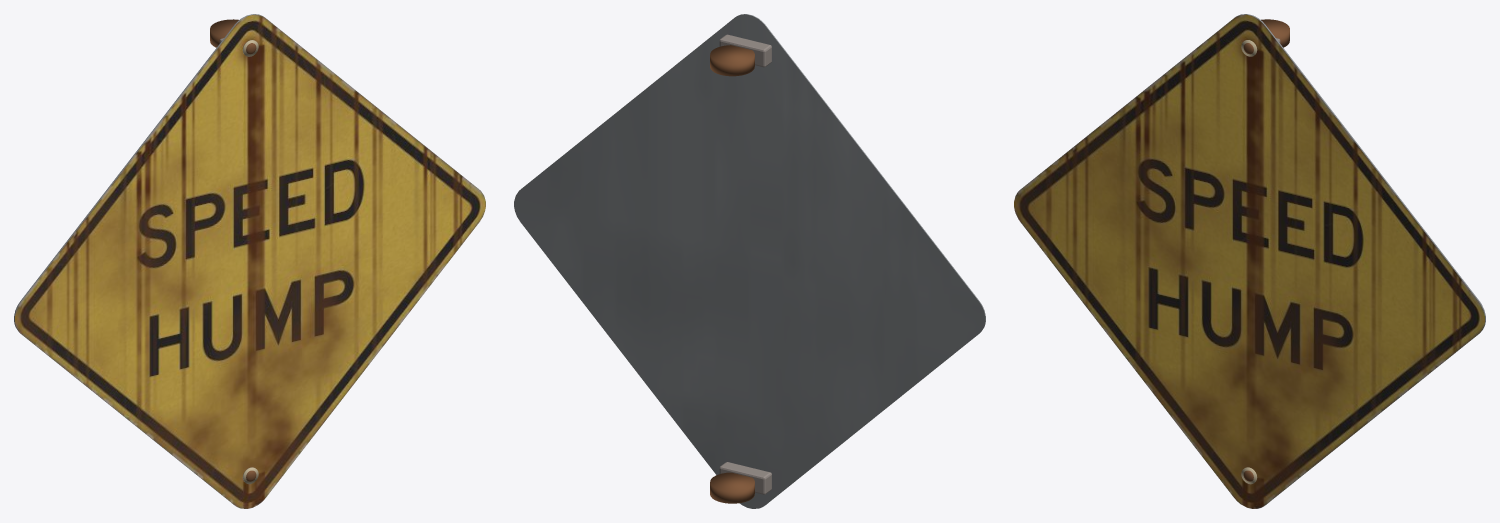
The model's file is warning-v1-rusty.glb.
3 views of the same model, side by side, from view 1: azimuth 30°, elevation 25°; view 2: azimuth 150°, elevation 25°; view 3: azimuth 330°, elevation 25° (orthographic).
Parts seen in each view (by area): view 1: warning-v1-rusty; view 2: warning-v1-rusty; view 3: warning-v1-rusty.
Boxes of the visible parts, x1,y1,x2,y2 form: warning-v1-rusty: (14,14,485,508); warning-v1-rusty: (514,14,985,508); warning-v1-rusty: (1014,14,1485,508).
Bounding box in the file's own units: 0.762 × 0.762 × 0.0871.
Materials: 1 (1 with a texture image).
